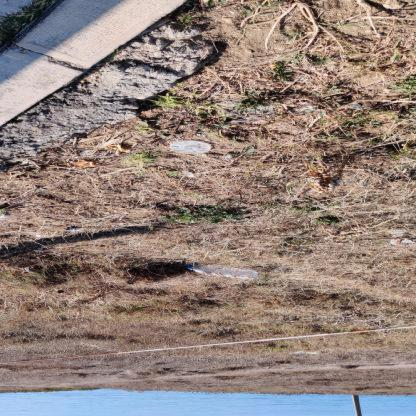Bottle: (188, 266, 192, 269)
Bottle cap: (187, 264, 258, 278)
Lid: (169, 140, 211, 154)
Plastic bag - wrapper: (25, 267, 30, 271)
Unlabeled litter: (64, 226, 80, 232), (292, 351, 316, 354)
